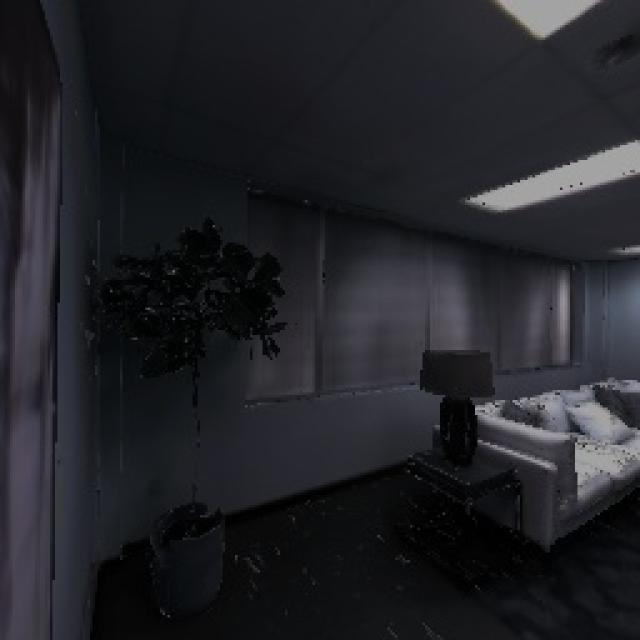sofa: (447, 370, 640, 567)
